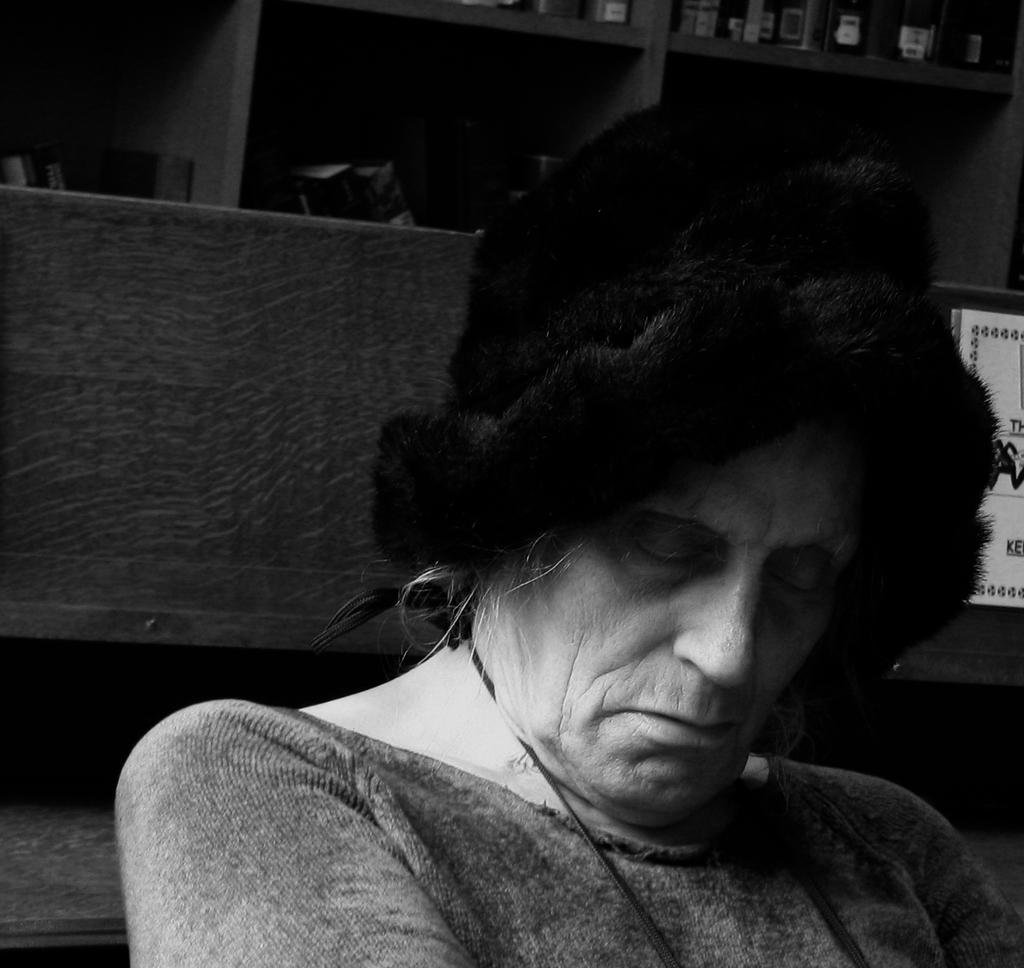Hat: (376, 101, 992, 622)
